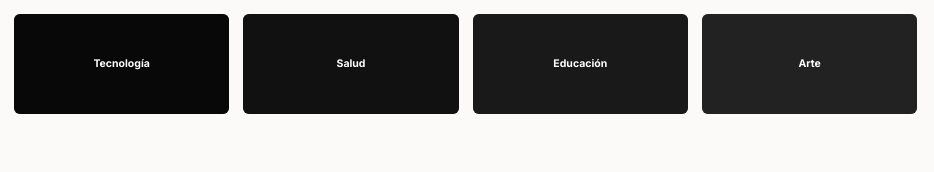
it: CategoryPicker — max 3 selections › toggles categories on and off up to the cap
Click the button titled "Tecnología". click: [122, 64]
box: [12, 12, 231, 116]
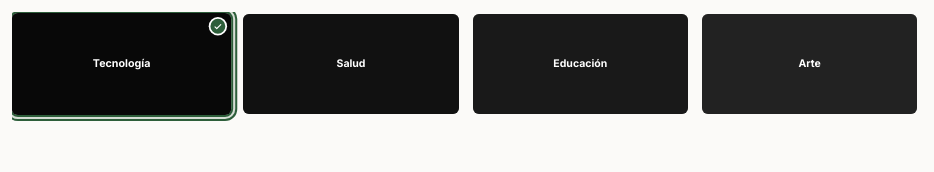
Click the button titled "Salud". click: [351, 64]
box: [241, 12, 461, 116]
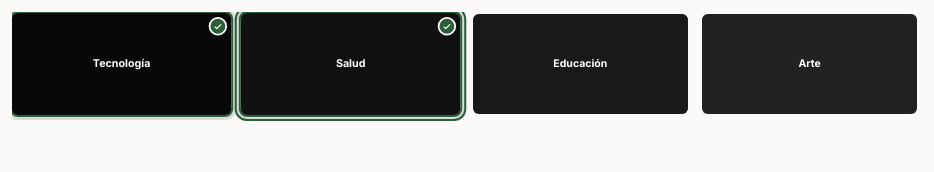
Click the button titled "Educación". click: [580, 64]
box: [471, 12, 690, 116]
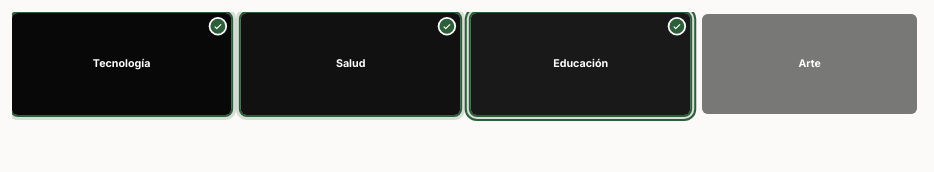
Expected: the button titled "Salud" is pressed, [239, 11, 463, 117]
Expected: the button titled "Educación" is pressed, [468, 11, 692, 117]
